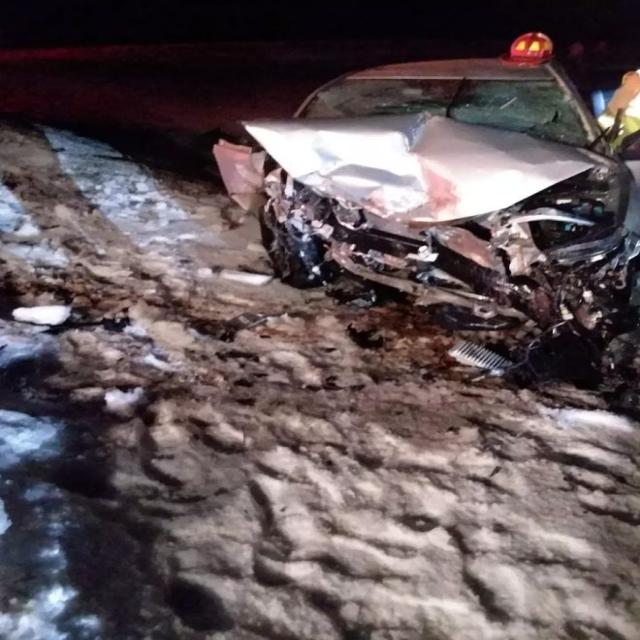Accident: (208, 56, 640, 382)
